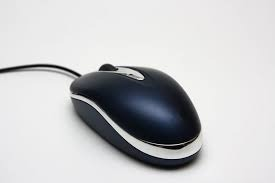mouse: (64, 58, 207, 169)
